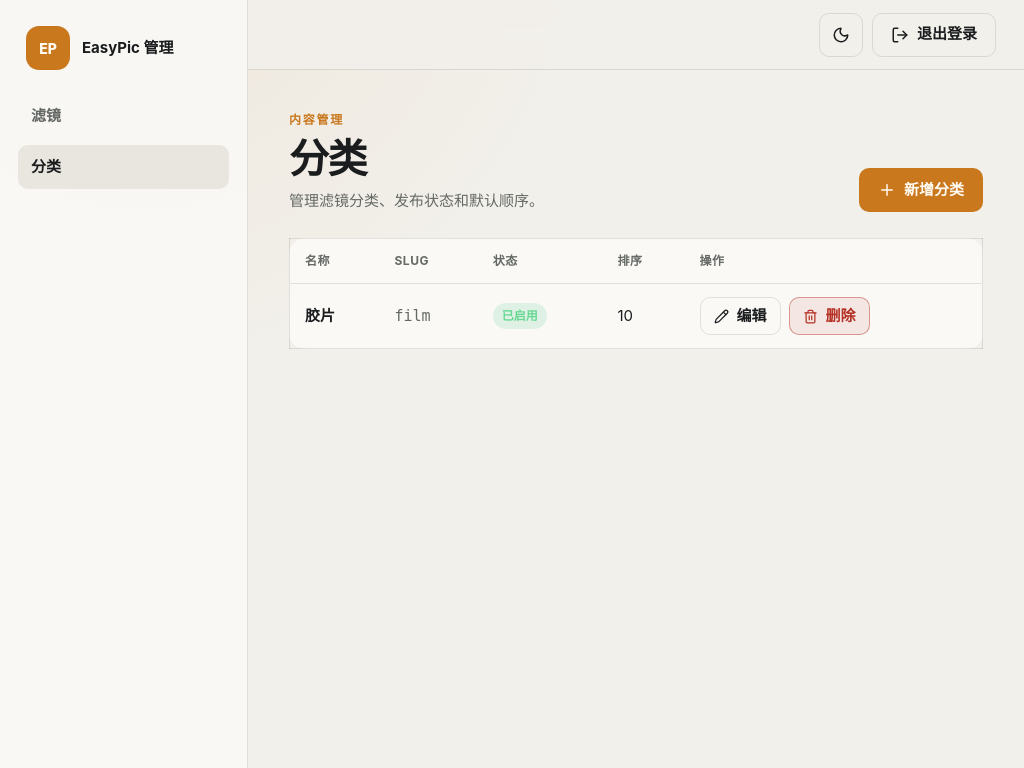
Scenario: category deletion › maps RATE_LIMITED delete errors to explicit retry-later guidance
Step 1. Click the button with aria-label "删除胶片" → click(829, 316), box [788, 298, 870, 336]
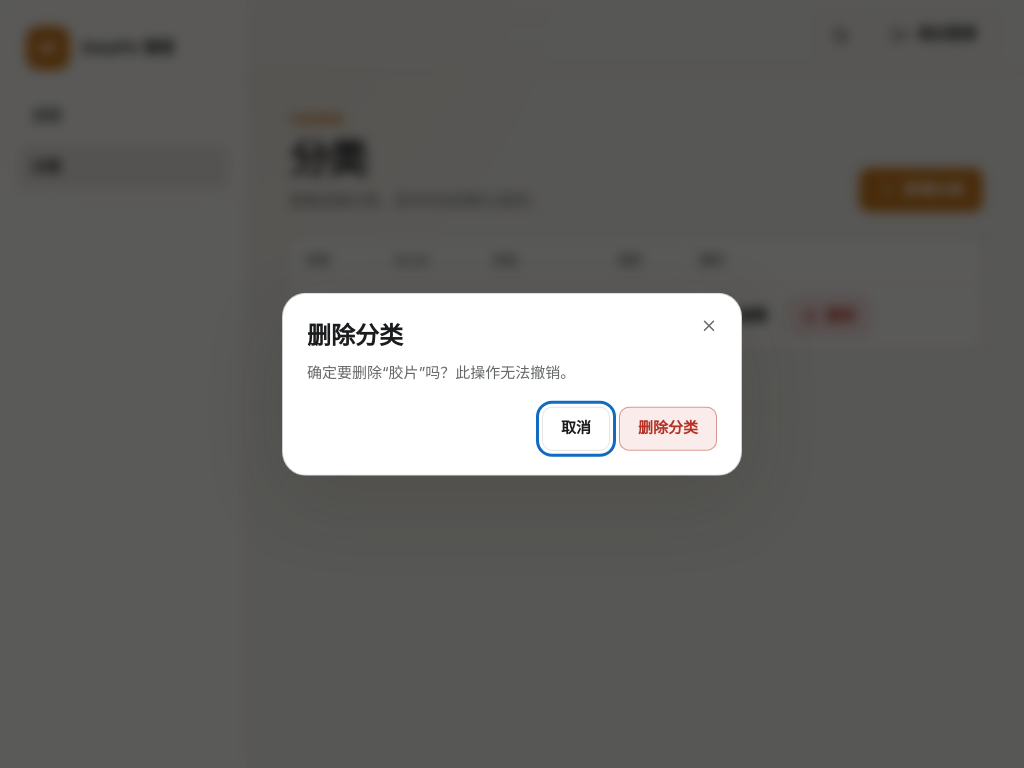
Step 2. Click the button "删除分类" → click(668, 428), box [619, 406, 717, 450]
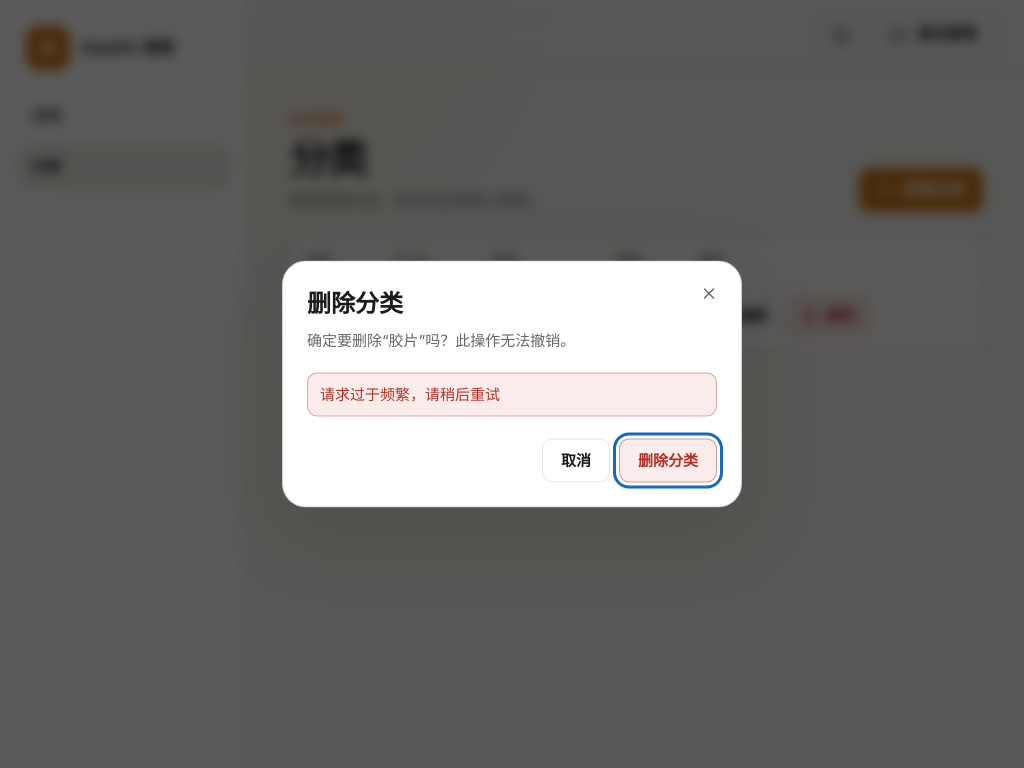
Expected: the dialog "删除分类" does not show "raw throttle detail", [282, 260, 742, 508]
Expected: the dialog "删除分类" is shown, [282, 260, 742, 508]
Expected: the message reads "请求过于频繁，请稍后重试", [320, 384, 500, 403]
